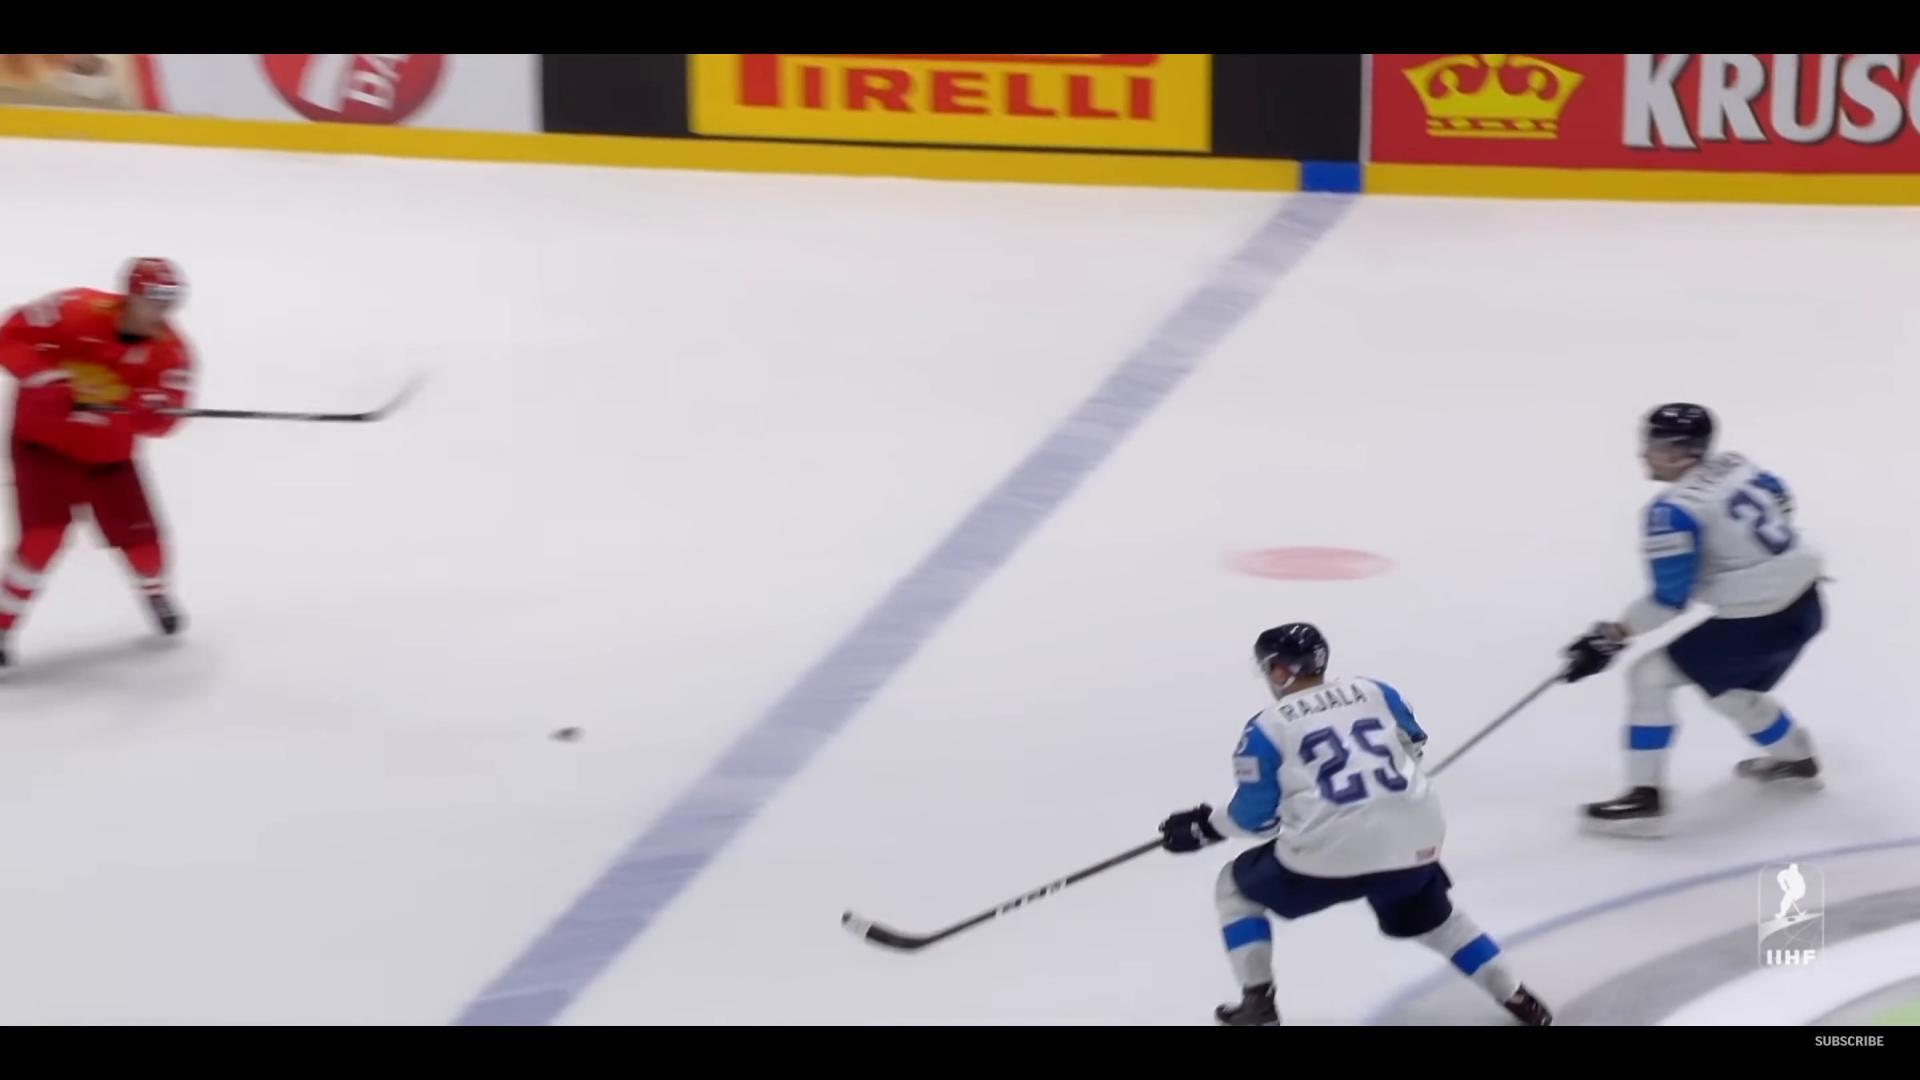puck: (553, 729, 579, 740)
